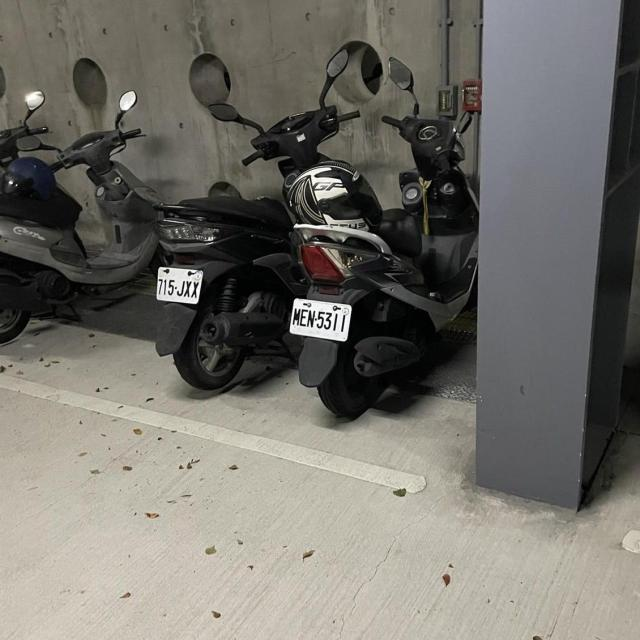W: (285, 294, 354, 344), (151, 263, 203, 306)
